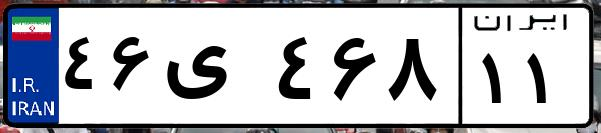1: (475, 38, 525, 113), (525, 38, 570, 115)
4: (270, 28, 330, 110), (57, 26, 110, 100)
6: (330, 28, 385, 110), (110, 28, 158, 98)
8: (385, 28, 445, 110)
ی: (158, 20, 270, 120)
